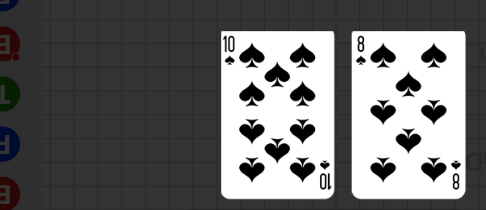10S: (222, 34, 237, 68)
8S: (449, 157, 462, 191)
